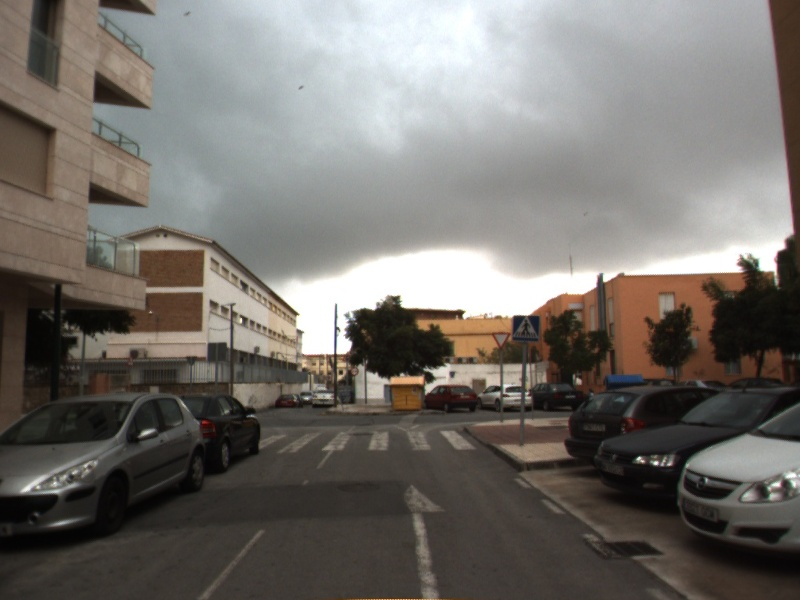STRAIGHT: (399, 480, 451, 600)
